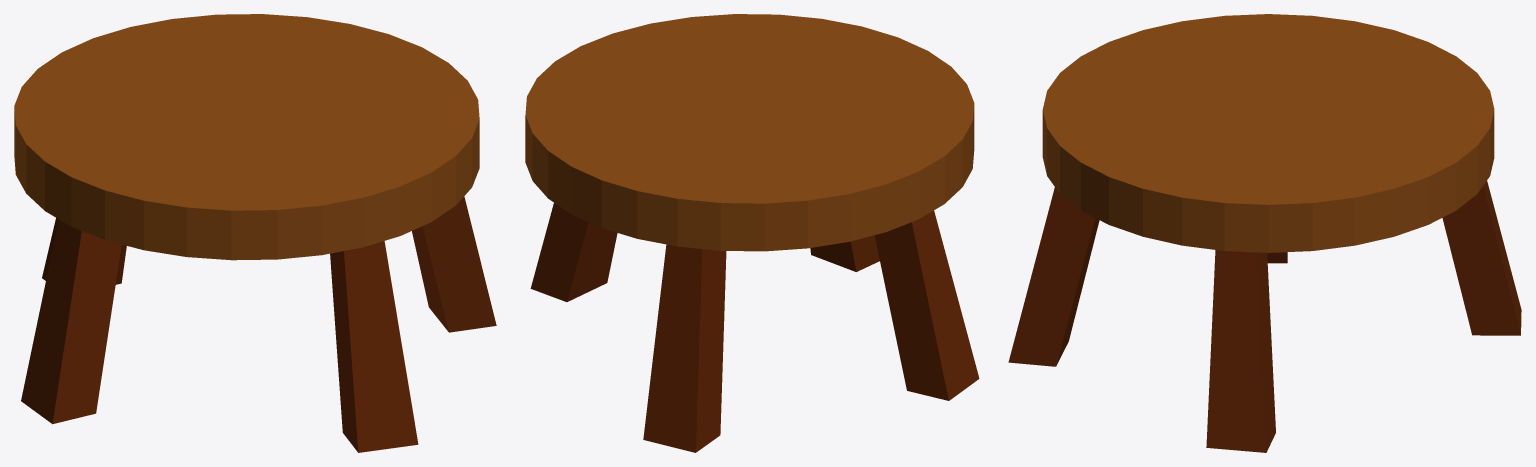
File: low-poly_stool.glb
3 renders of one model, left to right at view 1: azimuth 30°, elevation 25°; view 2: azimuth 150°, elevation 25°; view 3: azimuth 270°, elevation 25°, orthographic. The views are drawn at different scales.
Parts seen in each view (by area): view 1: Cylinder_4, Cube_0, Cube.002_2, Cube.003_3, Cube.001_1; view 2: Cylinder_4, Cube.001_1, Cube_0, Cube.003_3, Cube.002_2; view 3: Cylinder_4, Cube.003_3, Cube.002_2, Cube.001_1.
Part boxes in pixels (x1=…): Cylinder_4: x1=14, y1=14, x2=479, y2=260; Cube_0: x1=21, y1=219, x2=121, y2=424; Cube.002_2: x1=330, y1=241, x2=418, y2=452; Cube.003_3: x1=412, y1=196, x2=496, y2=332; Cube.001_1: x1=42, y1=218, x2=126, y2=284; Cylinder_4: x1=525, y1=14, x2=974, y2=251; Cube.001_1: x1=643, y1=244, x2=726, y2=452; Cube_0: x1=874, y1=210, x2=979, y2=400; Cube.003_3: x1=530, y1=203, x2=617, y2=301; Cube.002_2: x1=810, y1=235, x2=879, y2=271; Cylinder_4: x1=1042, y1=14, x2=1494, y2=252; Cube.003_3: x1=1206, y1=250, x2=1275, y2=452; Cube.002_2: x1=1008, y1=187, x2=1099, y2=366; Cube.001_1: x1=1442, y1=181, x2=1521, y2=335.
Size of the model in its own units: 0.8582 by 0.4484 by 0.8852.
